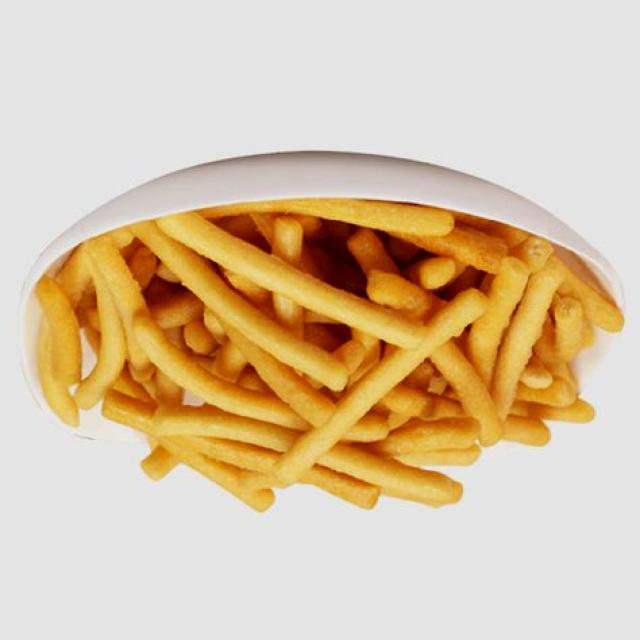kentang goreng: (23, 208, 624, 512)
